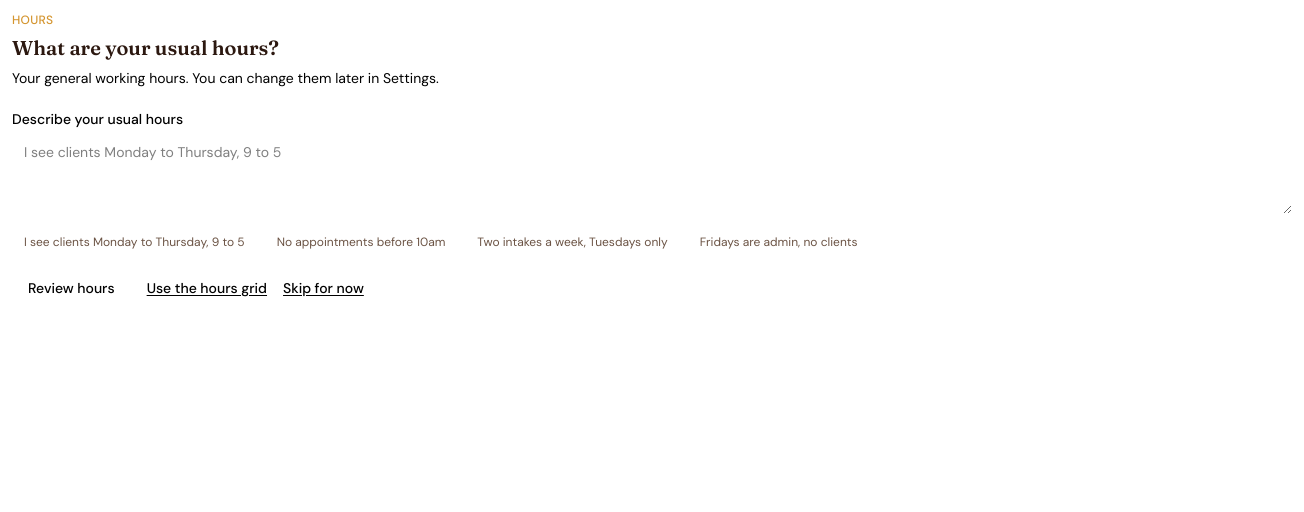
CalendarHoursStep › offers both meanings of an ambiguous sentence and confirms the one picked
In the text box labelled "Describe your usual hours": coordinates (652, 174) [12,134,1292,214], type "two intakes a week on Tuesdays"
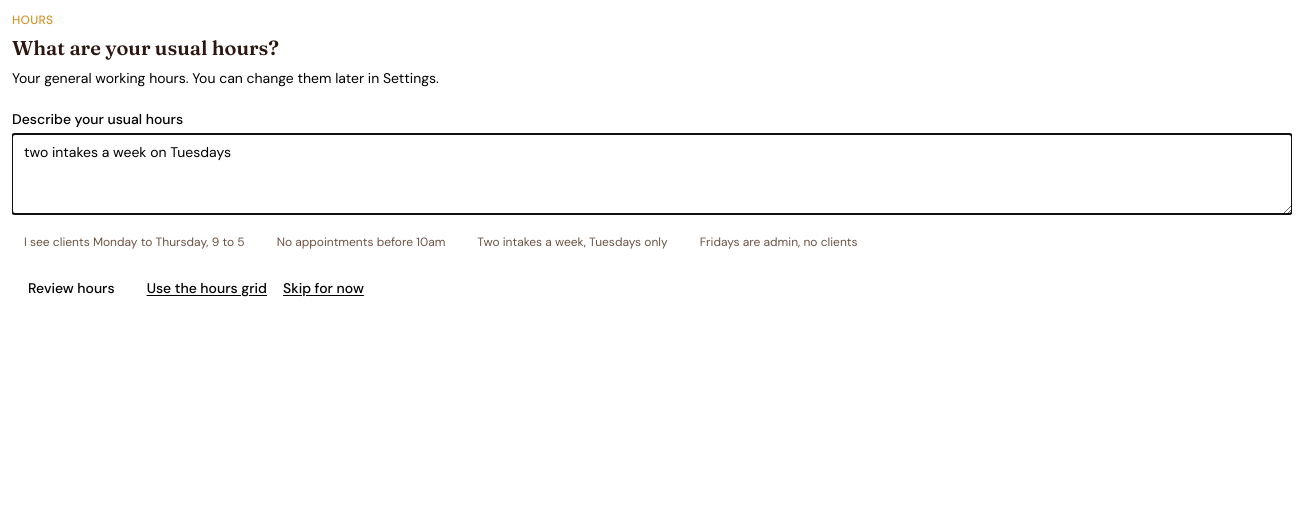
Click the button "Review hours": coordinates (71, 288) [12,270,131,306]
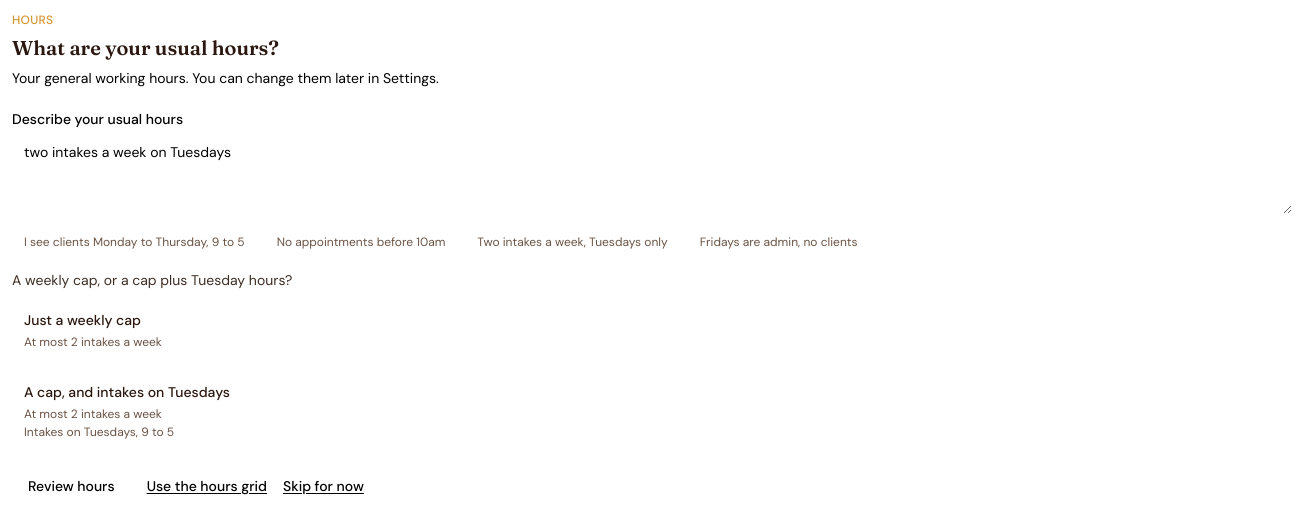
Check: the text "A weekly cap, or a cap plus Tuesday hours?" is shown, box [12,271,292,289]
Click the button "Just a weekly cap At most 2 intakes a week": coordinates (82, 320) [12,298,1292,362]
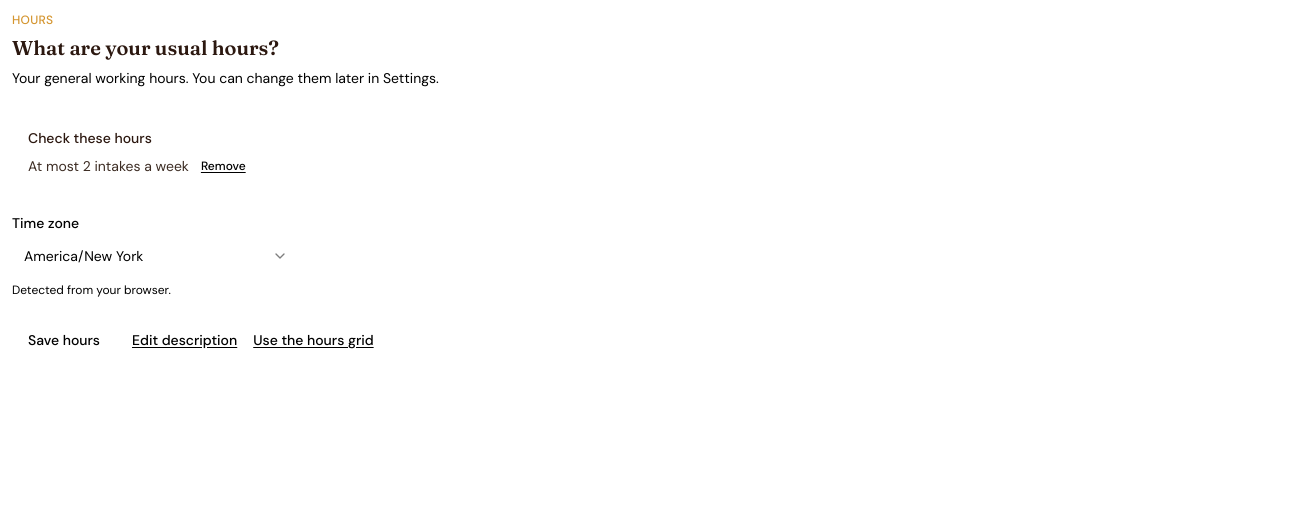
Check: the text "At most 2 intakes a week" is shown, box [28,156,189,176]
Check: the button "Intakes on Tuesdays, 9 to 5" is gone
